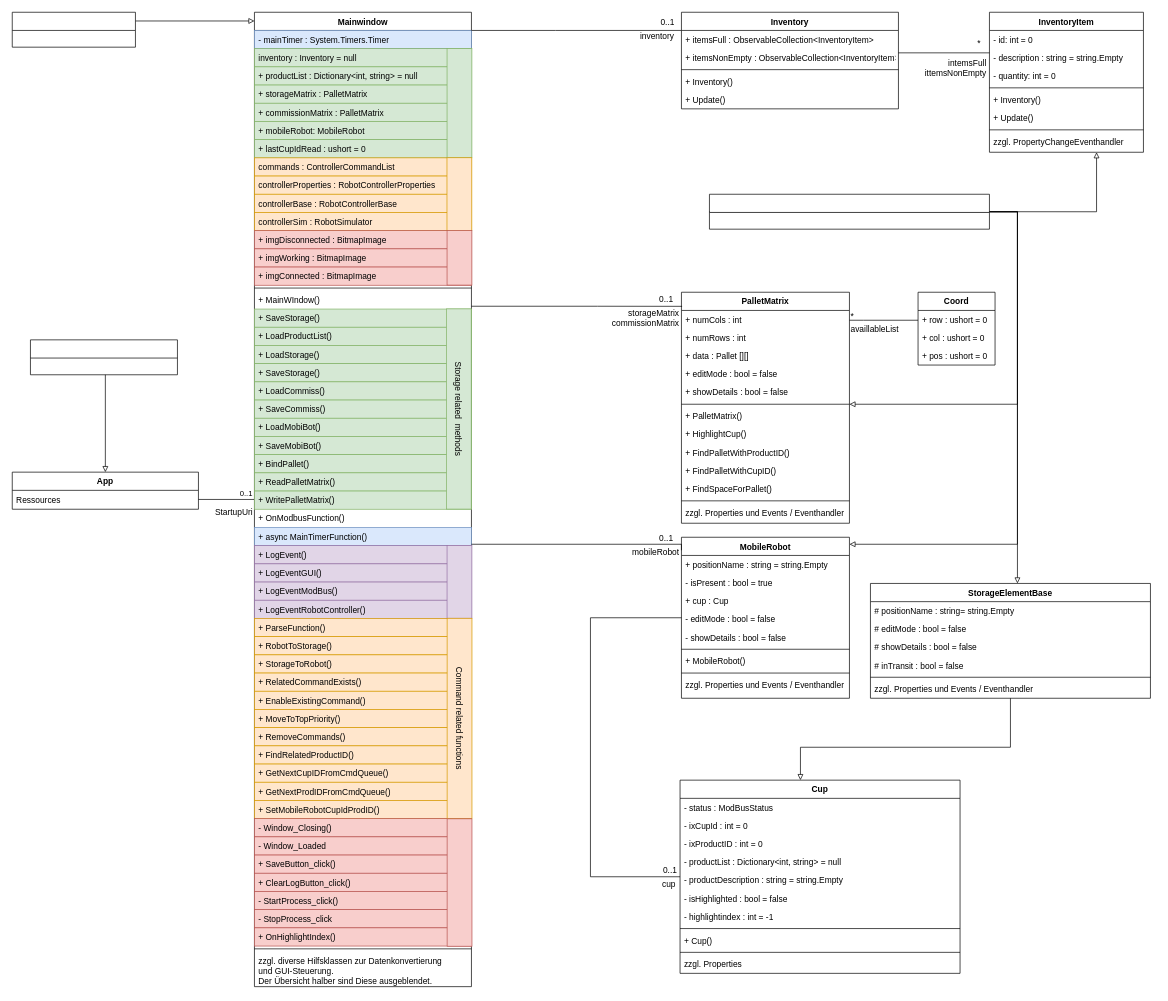
This 1168x1001 diagram has some shape labels left out. Here are the shapes that lost their labels. From the top down, the centre of each, then its label:
At pixel 73 29: "System.Windows.Window".
At pixel 459 103: "Storage related variables".
At pixel 459 194: "ABB controller variables".
At pixel 849 211: "INotifyPropertyChanged".
At pixel 459 257: "UI variables".
At pixel 103 357: "System.Windows.Application".
At pixel 459 581: "Log Functions".
At pixel 459 882: "UI Eventhandlers".
